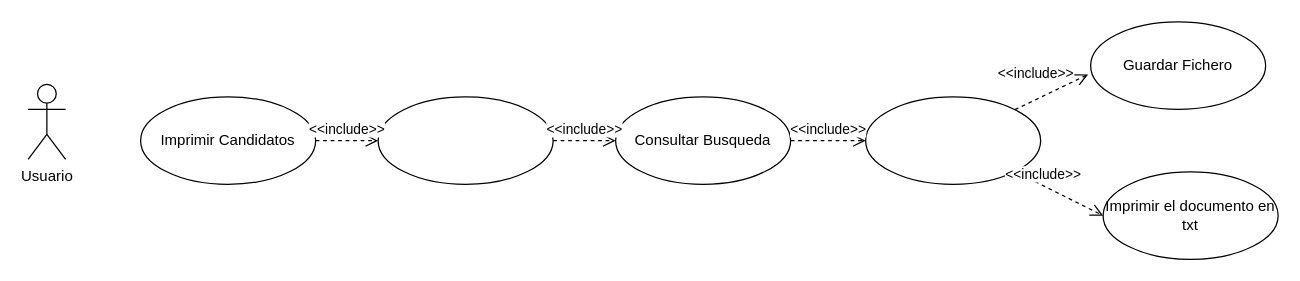
Some shapes in this 1300 by 281 pixel diagram are drawn without their labels. Each missing label, with the centre of its shape:
Acceder Candidatos.dat: point 465,140
Generar Fichero: point 952,140
